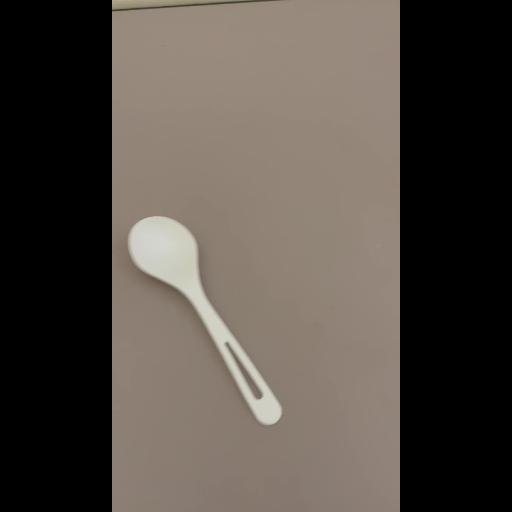utensil: (112, 205, 290, 429)
